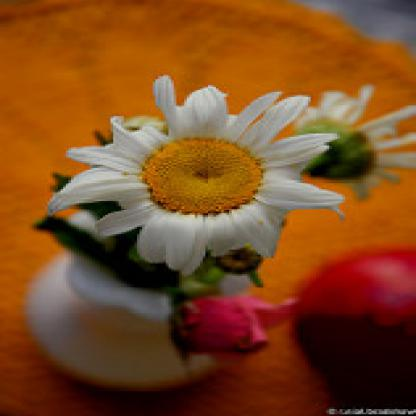ASTER: (12, 29, 399, 408)
